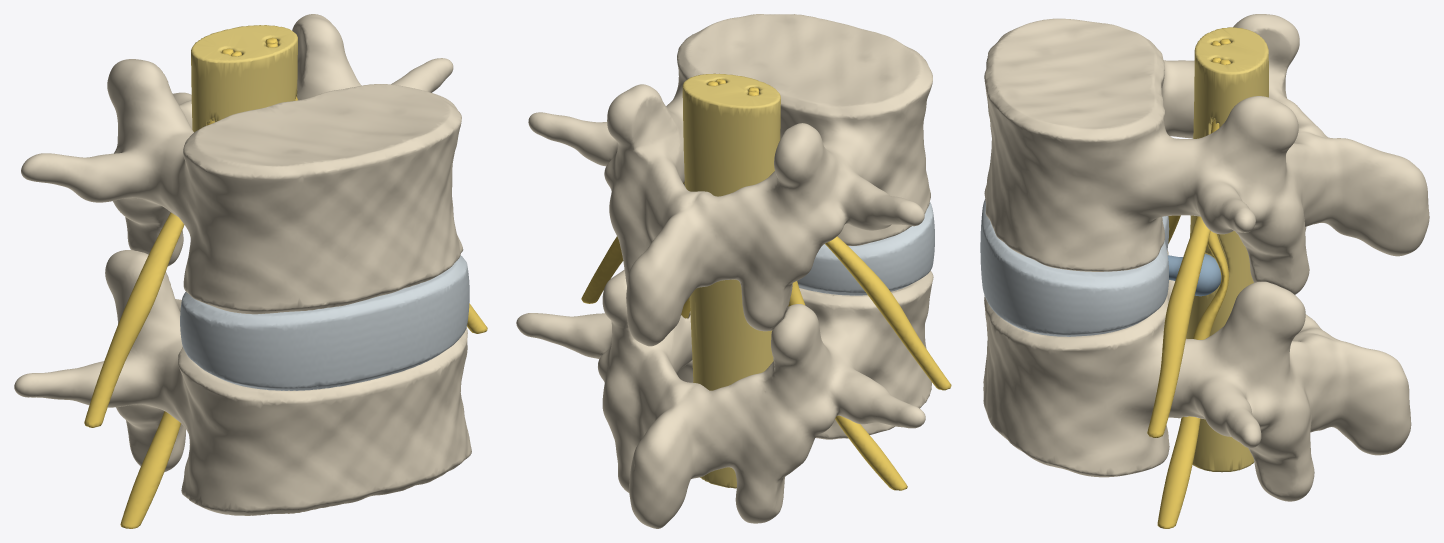
File: source_spine.glb
3 renders of one model, left to right at view 1: azimuth 30°, elevation 25°; view 2: azimuth 150°, elevation 25°; view 3: azimuth 270°, elevation 25°, orthographic. The views are drawn at different scales.
Visible parts, largest first — view 1: l4_vertebra, l5_vertebra, annulus_fibrosus, thecal_sac, l4_nerve_root_right, l5_nerve_root_right; view 2: l4_vertebra, l5_vertebra, thecal_sac, annulus_fibrosus, l4_nerve_root_right, l5_nerve_root_right, l4_nerve_root_left; view 3: l4_vertebra, l5_vertebra, annulus_fibrosus, thecal_sac, l4_nerve_root_left, l5_nerve_root_left, disc_herniation.
Part boxes in pixels (x1,y1,x2,y2): l4_vertebra: [21, 14, 463, 314]; l5_vertebra: [14, 250, 471, 515]; annulus_fibrosus: [180, 255, 469, 390]; thecal_sac: [191, 25, 297, 132]; l4_nerve_root_right: [84, 48, 233, 427]; l5_nerve_root_right: [120, 51, 241, 528]; l4_vertebra: [528, 14, 932, 346]; l5_vertebra: [516, 269, 933, 528]; thecal_sac: [682, 73, 780, 488]; annulus_fibrosus: [797, 202, 934, 295]; l4_nerve_root_right: [747, 91, 951, 390]; l5_nerve_root_right: [748, 87, 907, 490]; l4_nerve_root_left: [581, 81, 718, 303]; l4_vertebra: [984, 14, 1429, 294]; l5_vertebra: [983, 227, 1411, 501]; annulus_fibrosus: [980, 199, 1169, 336]; thecal_sac: [1186, 27, 1268, 472]; l4_nerve_root_left: [1147, 59, 1230, 437]; l5_nerve_root_left: [1157, 57, 1228, 528]; disc_herniation: [1168, 254, 1221, 296].
Size of the model in its own units: 0.0847 by 0.0792 by 0.0774.
